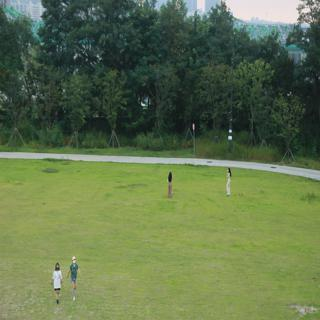person: (48, 257, 67, 306), (69, 252, 84, 304), (221, 163, 237, 206), (161, 165, 180, 200)
